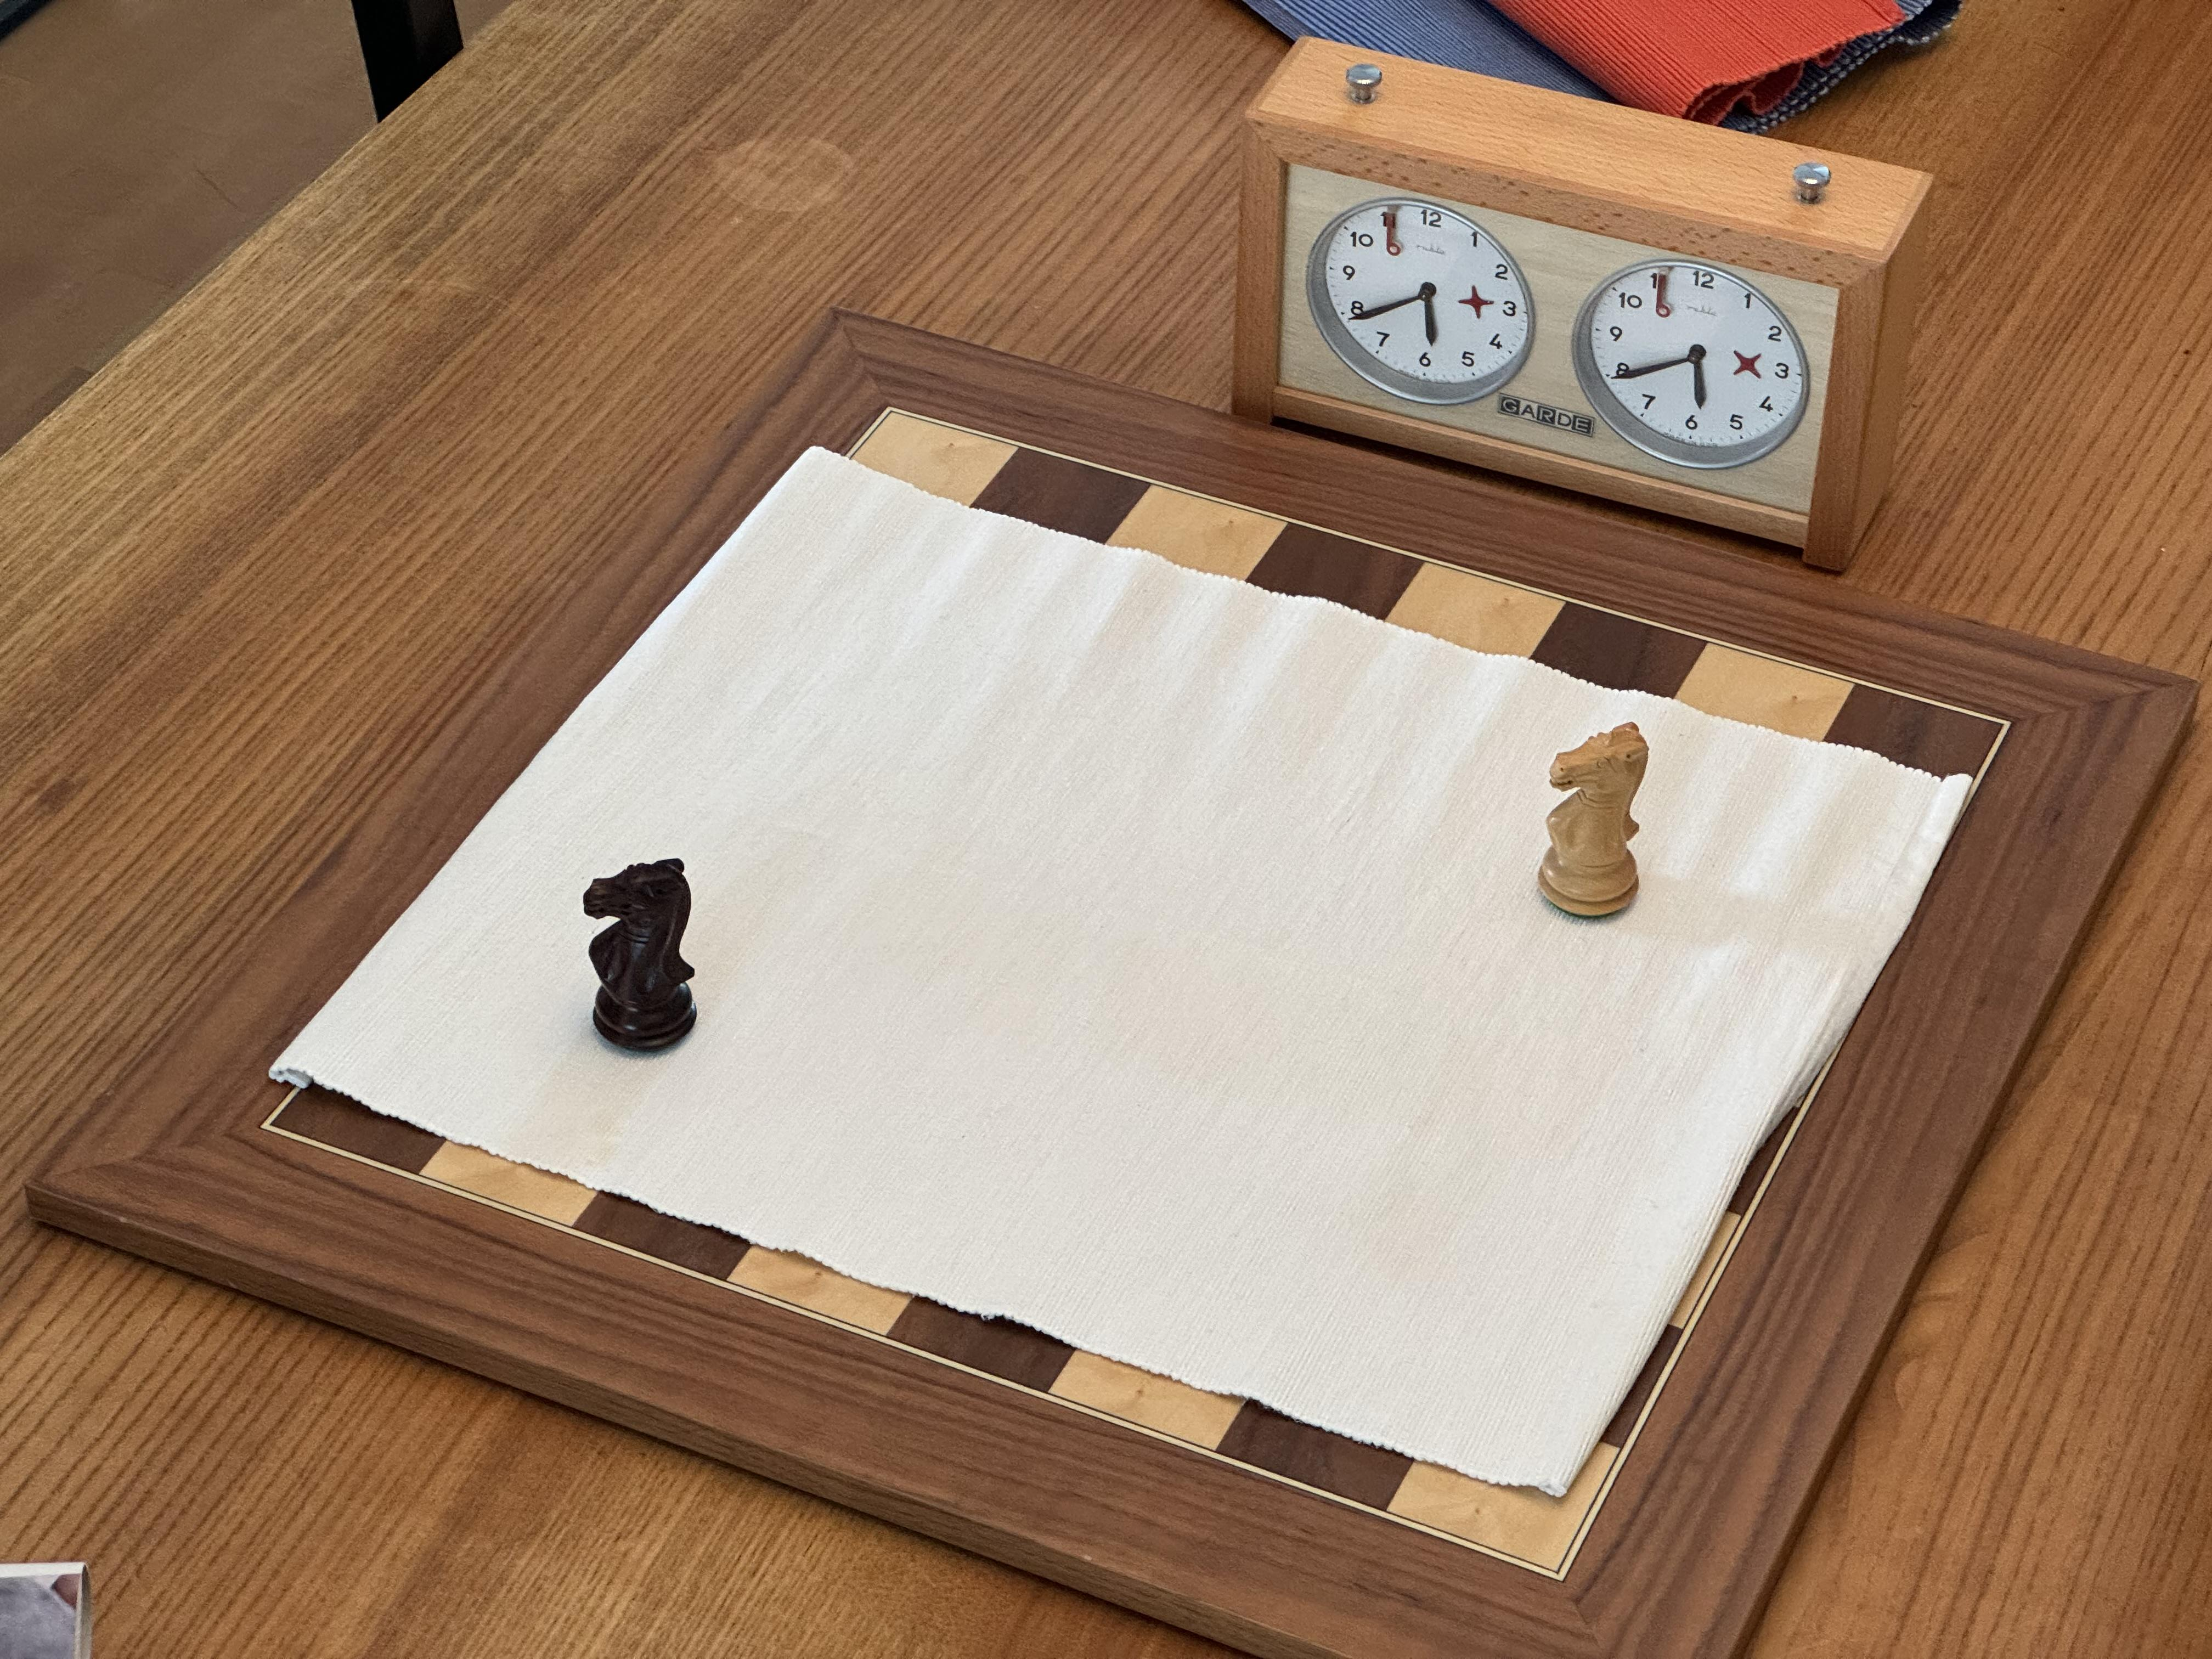Black Knight: (577, 852, 702, 1063)
White Knight: (1533, 718, 1655, 927)
